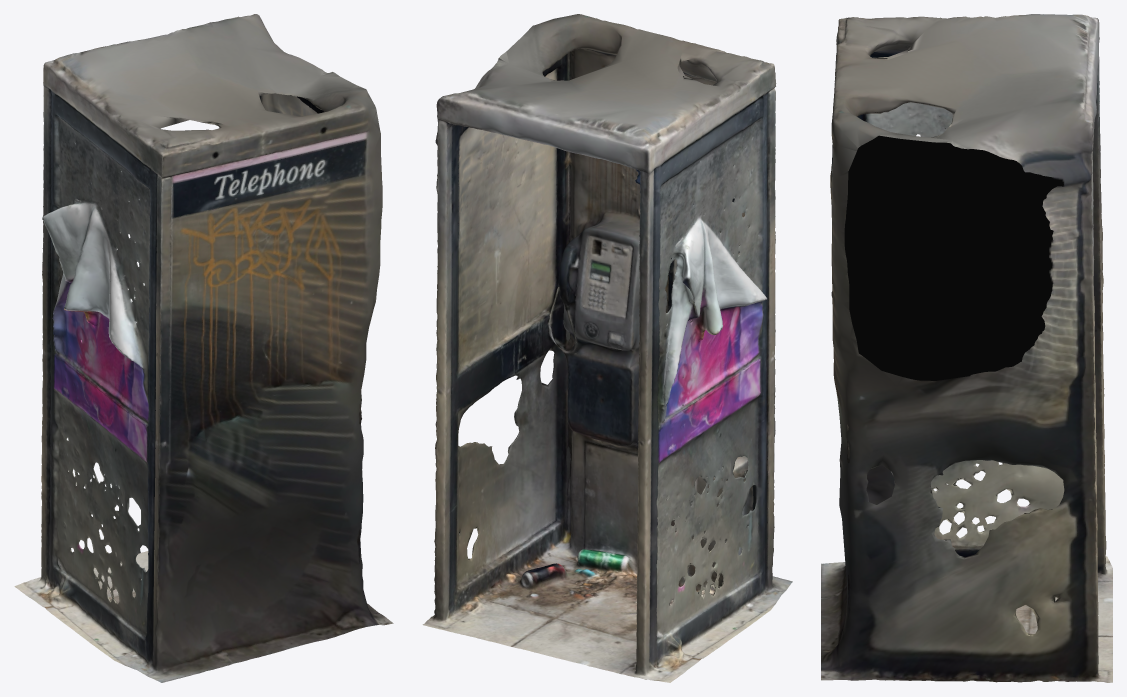
File: 3DModel.glb
3 renders of one model, left to right at view 1: azimuth 30°, elevation 25°; view 2: azimuth 150°, elevation 25°; view 3: azimuth 270°, elevation 25°, orthographic. The views are drawn at different scales.
Visible parts, largest first — view 1: 3DModel; view 2: 3DModel; view 3: 3DModel.
Part boxes in pixels (x1=…): 3DModel: x1=14, y1=14, x2=393, y2=682; 3DModel: x1=422, y1=14, x2=792, y2=682; 3DModel: x1=821, y1=14, x2=1112, y2=682.
Size of the model in its own units: 0.5271 by 1.11 by 0.5141.
Materials: 1 (1 with a texture image).
